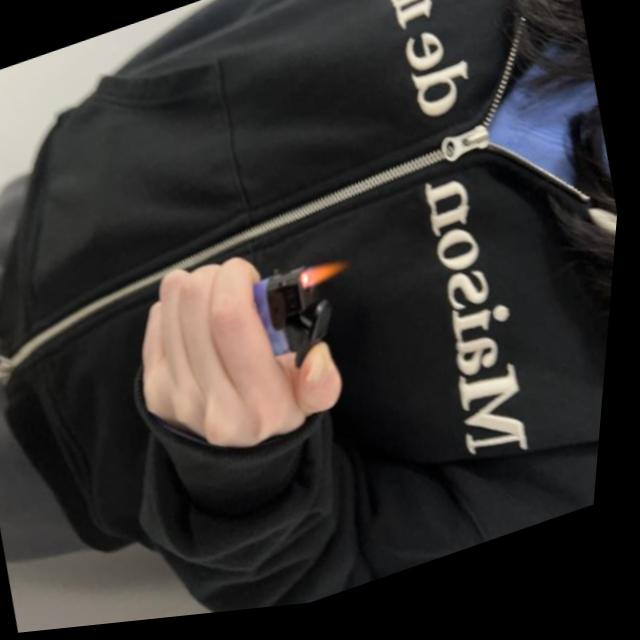Fire: (303, 257, 360, 303)
